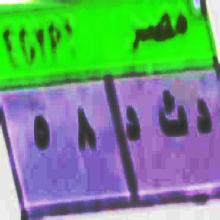5: (31, 113, 54, 154)
8: (75, 102, 97, 156)
daal: (192, 96, 212, 139), (124, 102, 143, 146)
thaa: (159, 87, 187, 147)
